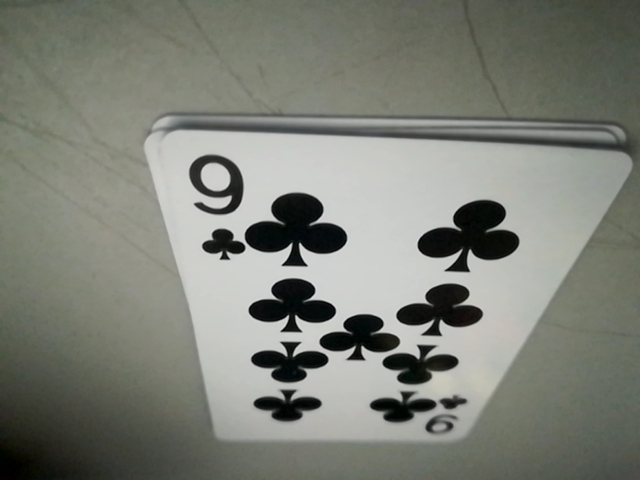mh 9: (174, 127, 259, 265), (398, 397, 471, 439)
